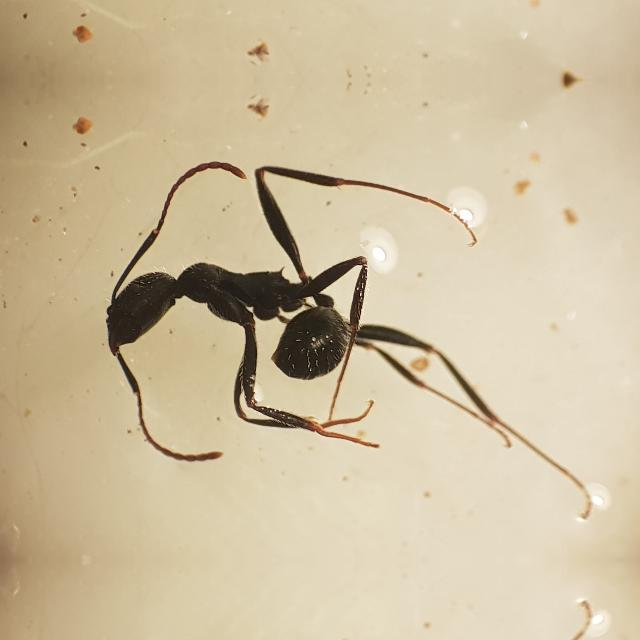Apheanogaster: (60, 179, 426, 433)
